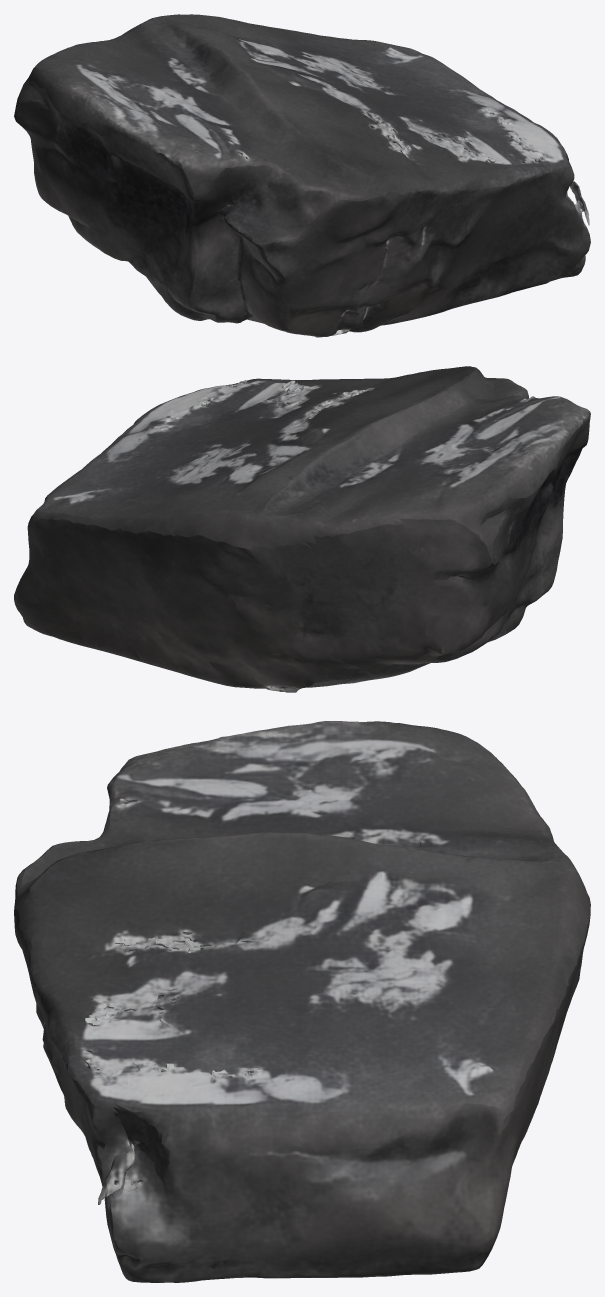
3 renders of one model, top to bottom at view 1: azimuth 30°, elevation 25°; view 2: azimuth 150°, elevation 25°; view 3: azimuth 270°, elevation 25°, orthographic. The views are drawn at different scales.
Parts seen in each view (by area): view 1: world; view 2: world; view 3: world.
Part boxes in pixels (<box>): world: <box>14,14,590,337</box>; world: <box>14,366,590,692</box>; world: <box>14,721,590,1282</box>.
Bounding box in the file's own units: 0.45 × 0.2203 × 0.3861.
1 material, 1 textured.
